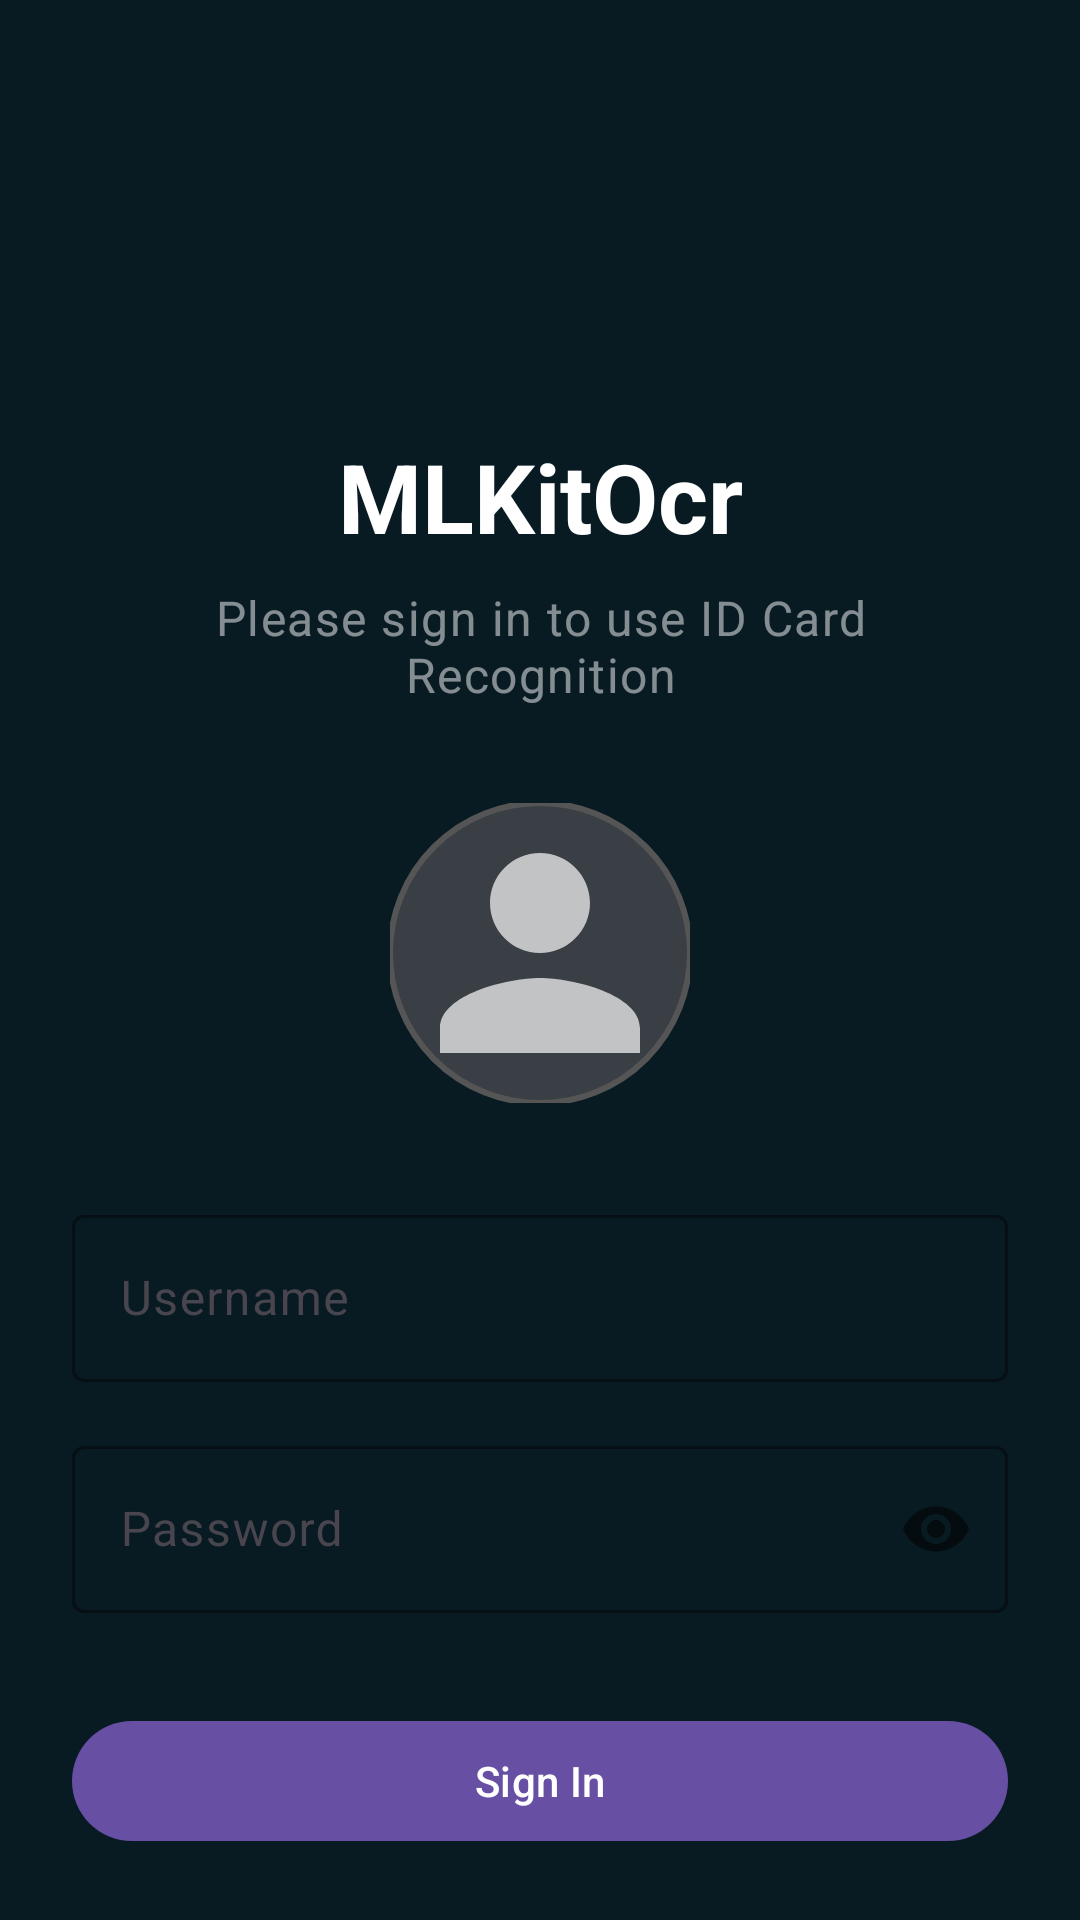

Icon click points for this 1080*1920 phone screenshot, format [x,y]:
person: [540,953]
